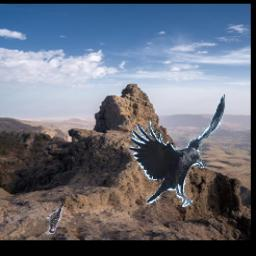Crow: (129, 91, 226, 207)
Woodpecker: (46, 201, 66, 235)
